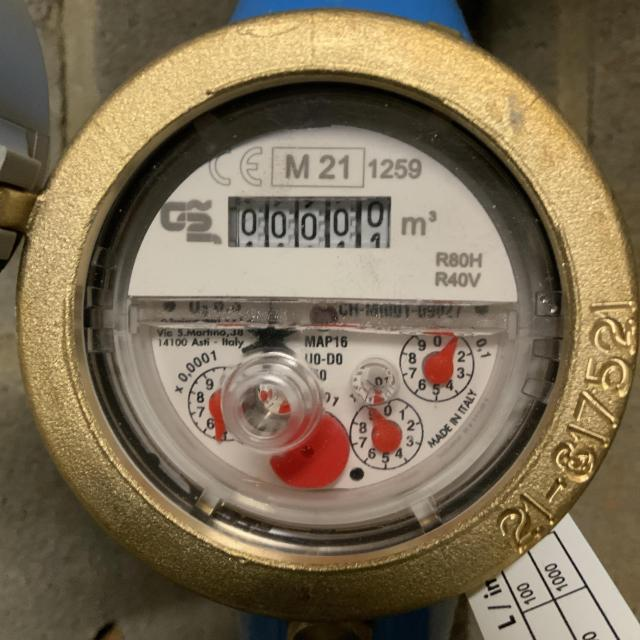gaz_meter: (114, 123, 522, 529)
indication: (228, 198, 390, 248)
